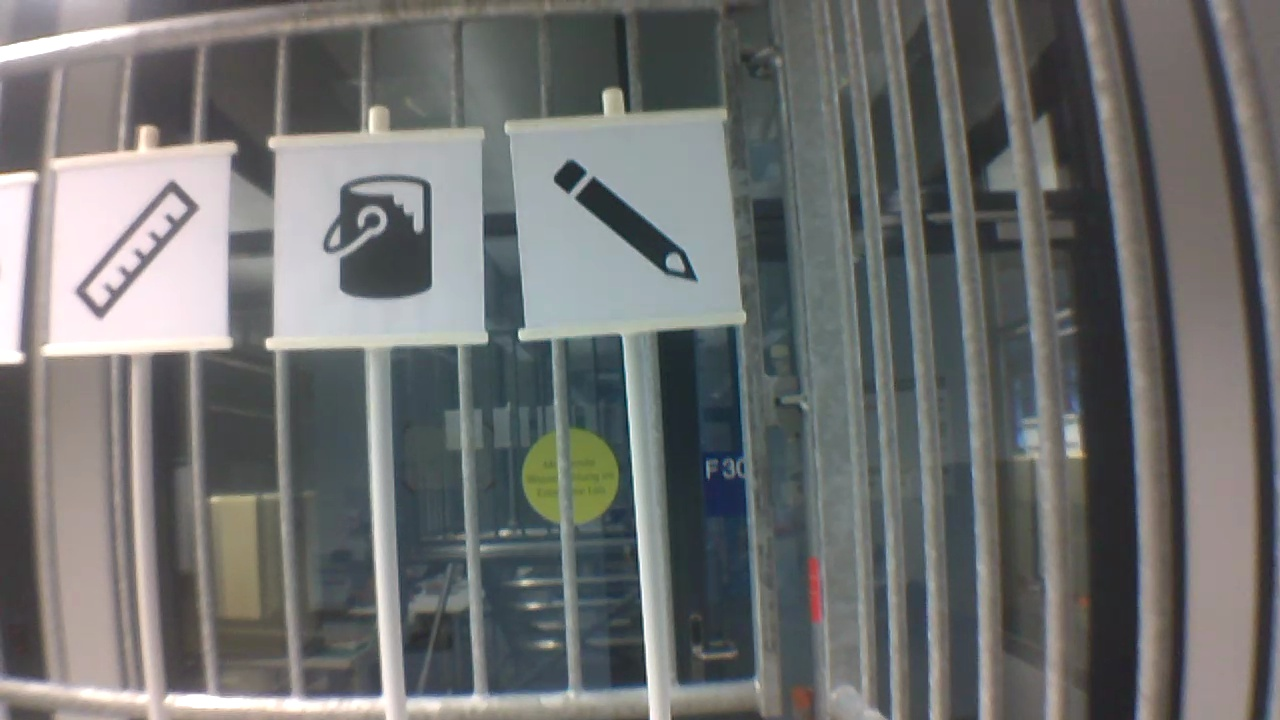bucket: (315, 171, 439, 304)
pencil: (543, 156, 700, 287)
ruler: (70, 174, 199, 325)
